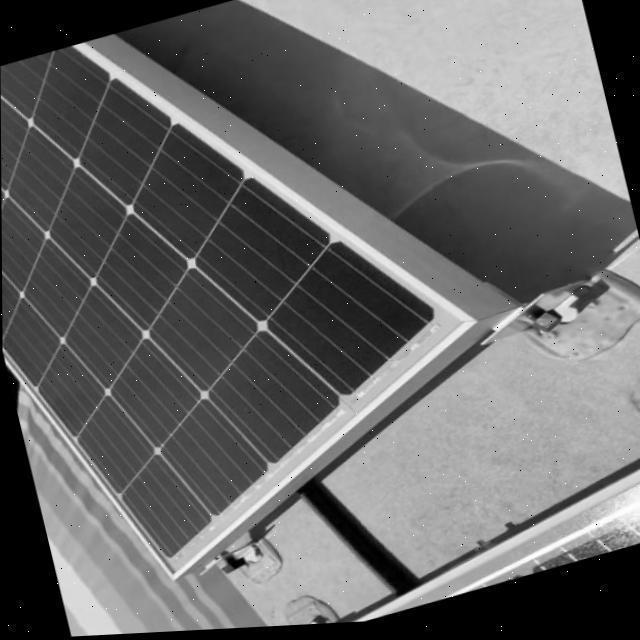Normal Solar Panel: (0, 0, 514, 614), (249, 460, 640, 630)
